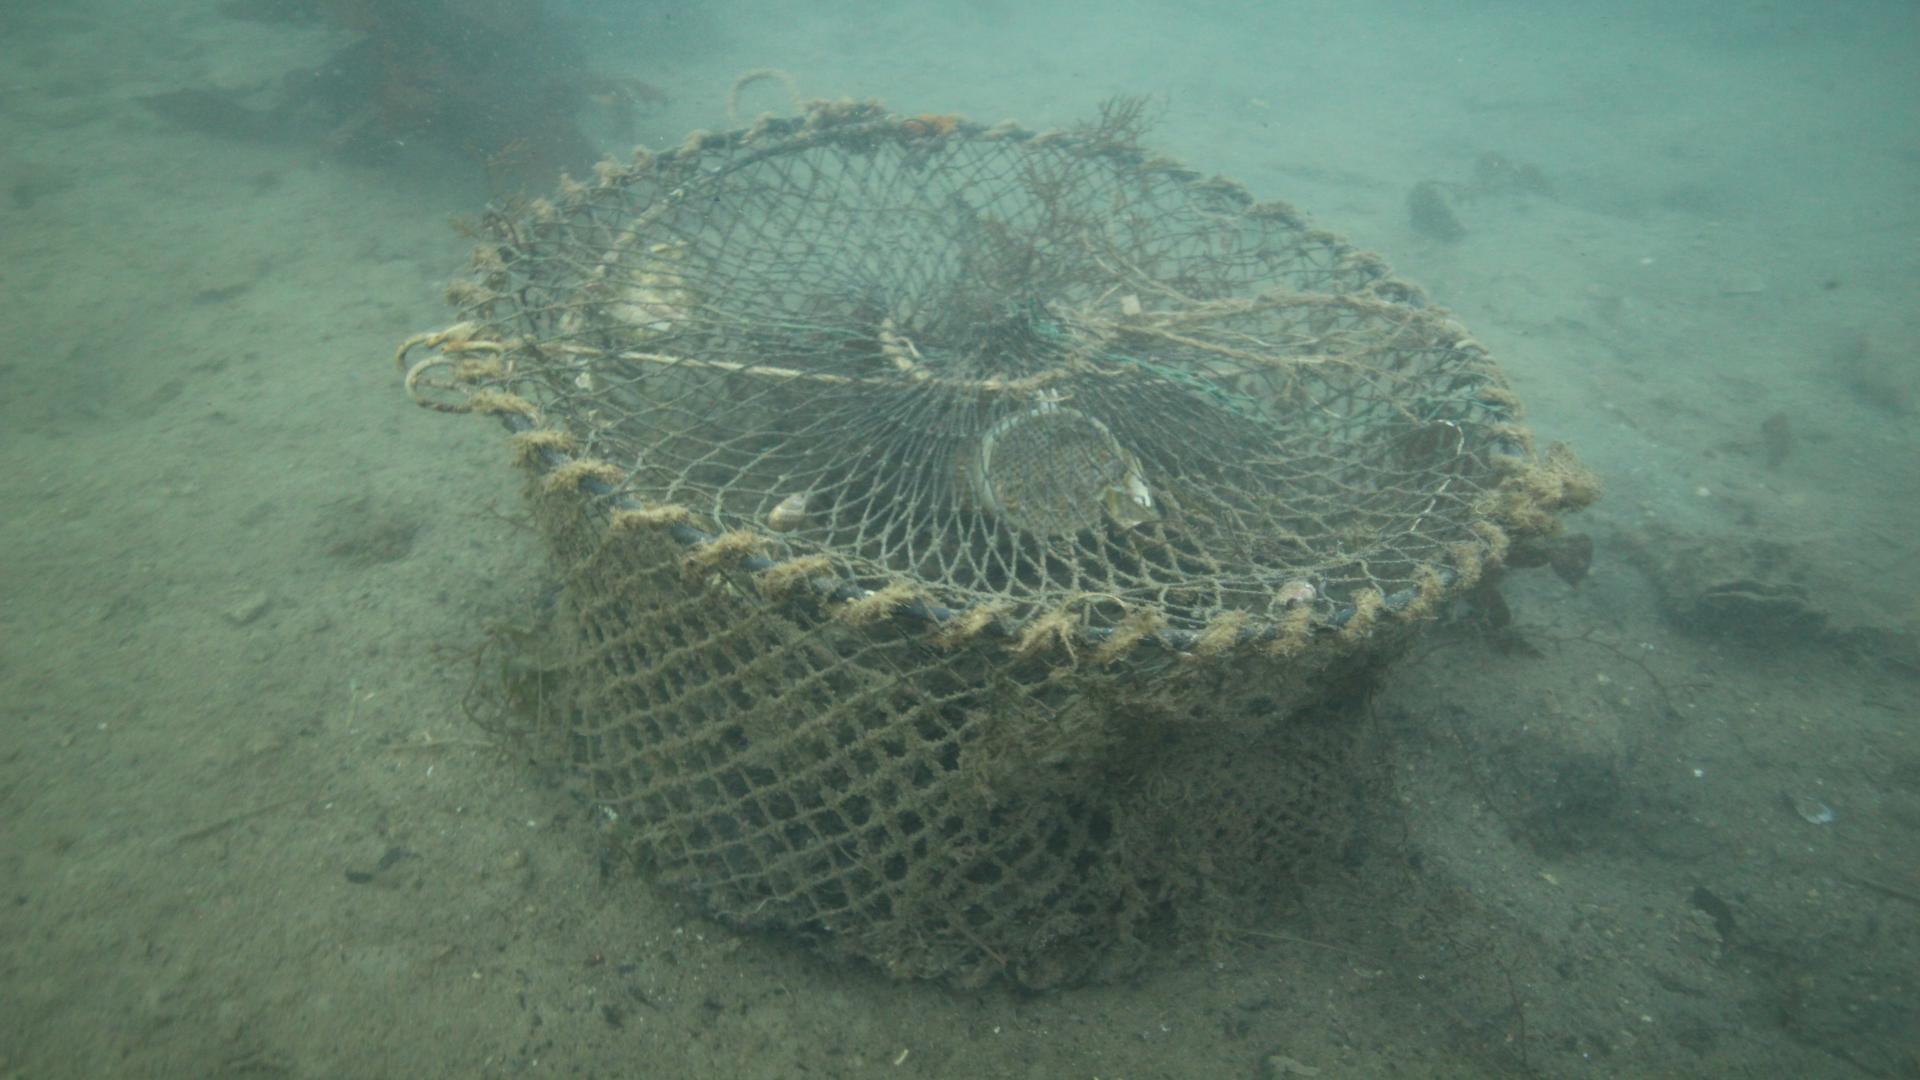circular fish trap: (393, 96, 1597, 989)
rope: (721, 63, 814, 124)
